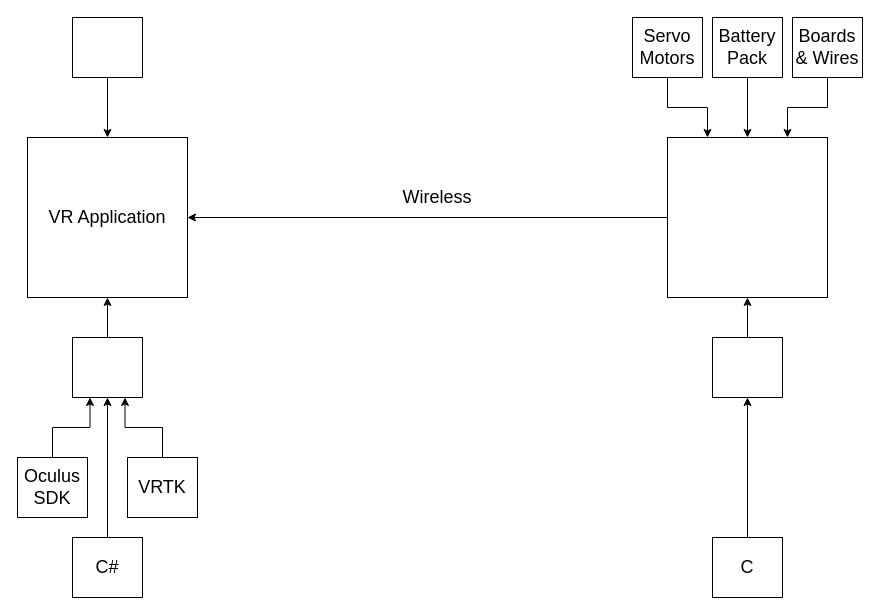
This 880x615 diagram has some shape labels left out. The shapes that lost their labels are listed below. From the top down, each one's box as (x1, y1, x2, y2) in pixels, then its label:
(72, 16, 142, 78): Oculus Rift
(666, 136, 828, 298): Robotic Arm
(72, 336, 142, 398): Unity
(712, 336, 782, 398): Arduino
